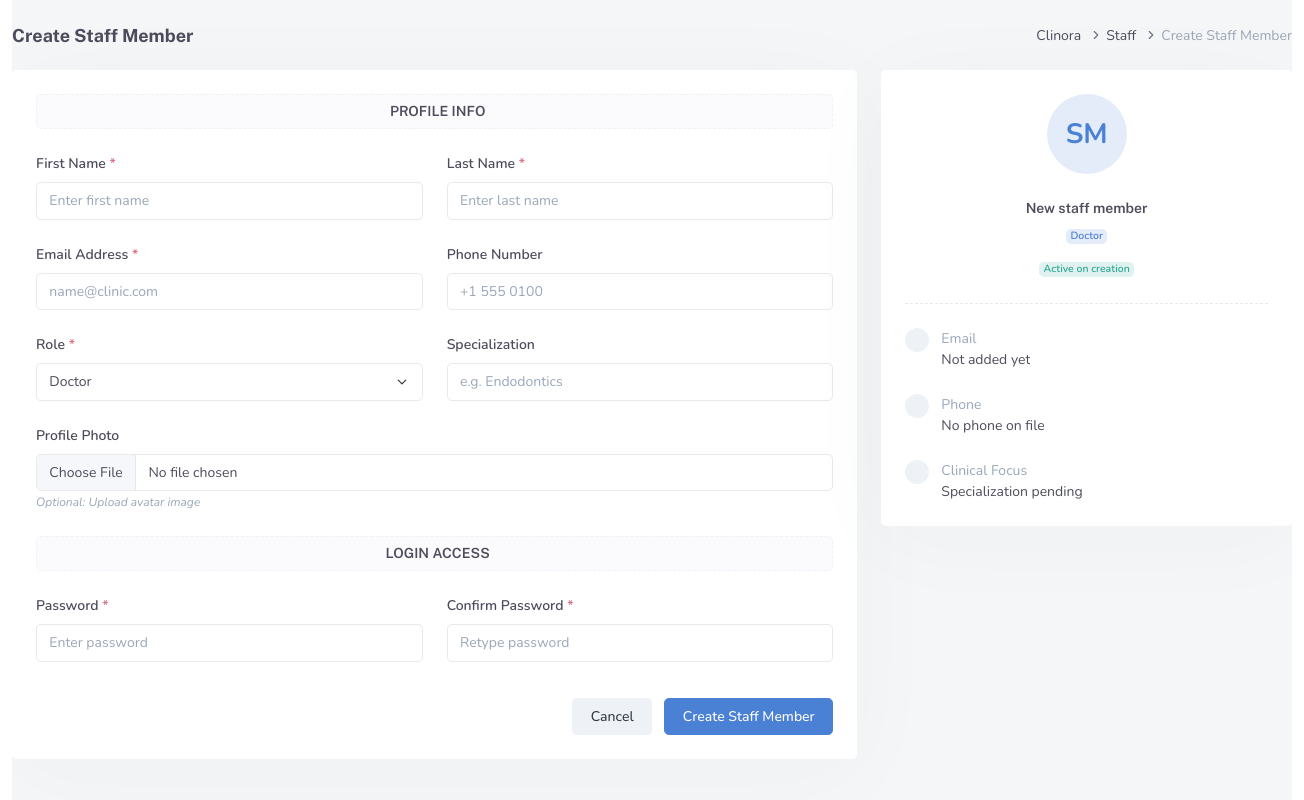
Test: CreateStaffPage › maps duplicate email conflicts to useful field feedback
Type "Salma" into the field labelled "First Name *". click: (229, 201)
box: [36,182,423,220]
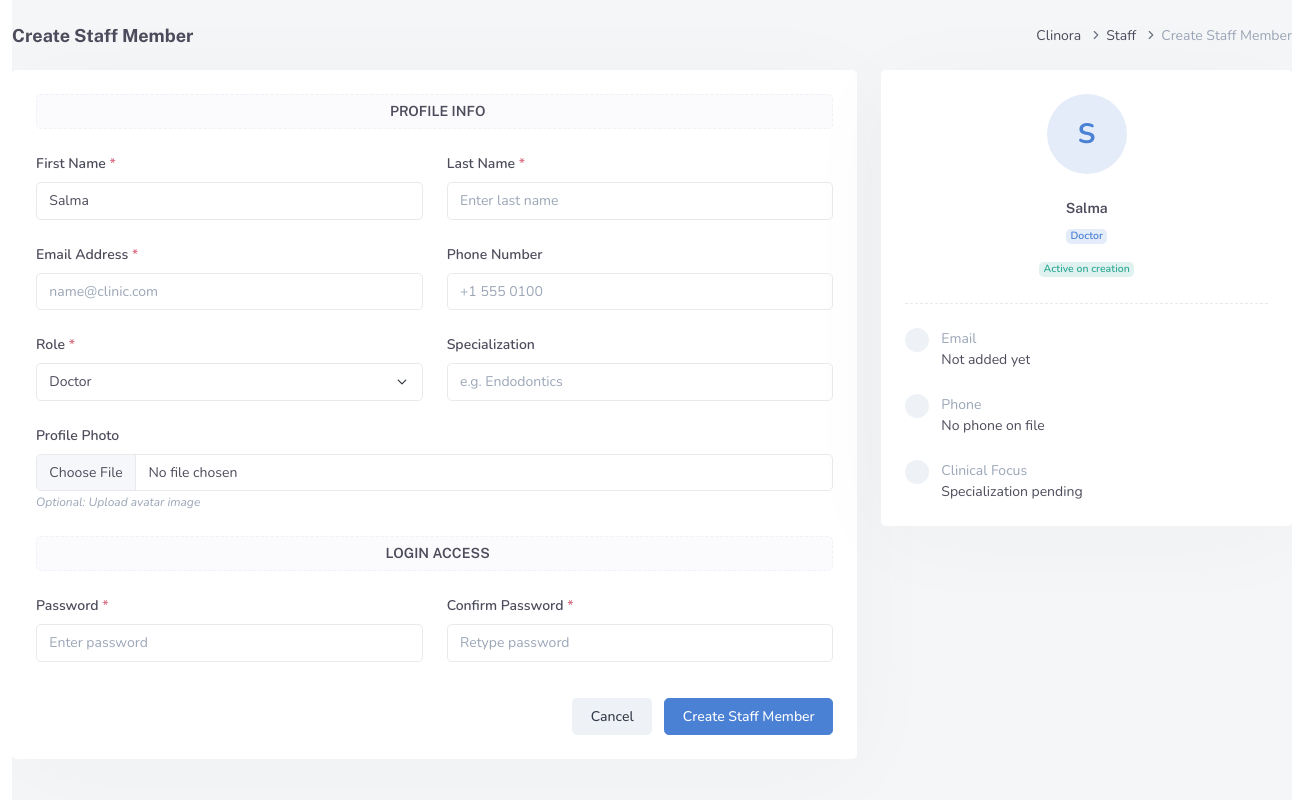
Type "El Mansouri" into the field labelled "Last Name *". click: (640, 201)
box: [447,182,833,220]
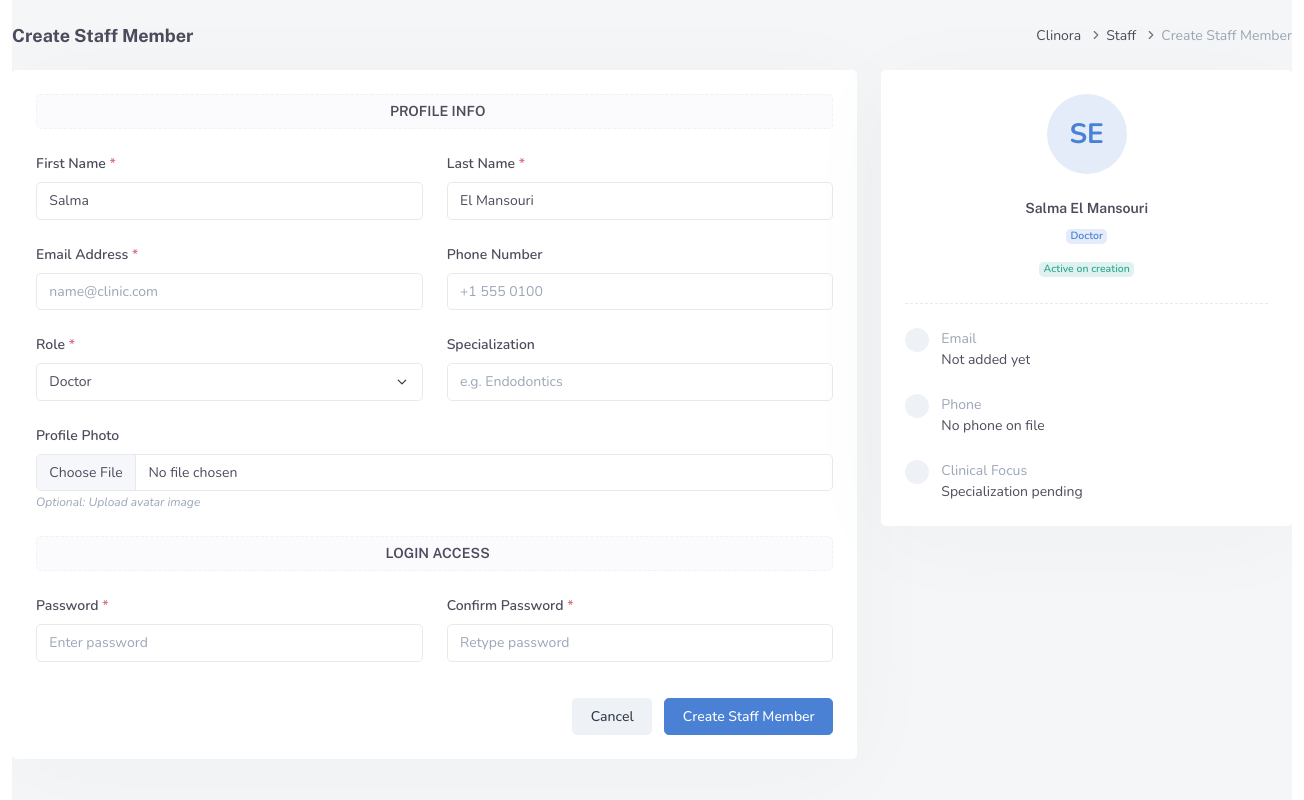
Type "SALMA.ELMANSOURI@CLINORA.TEST" into the field labelled "Email Address *". click: (229, 291)
box: [36,272,423,310]
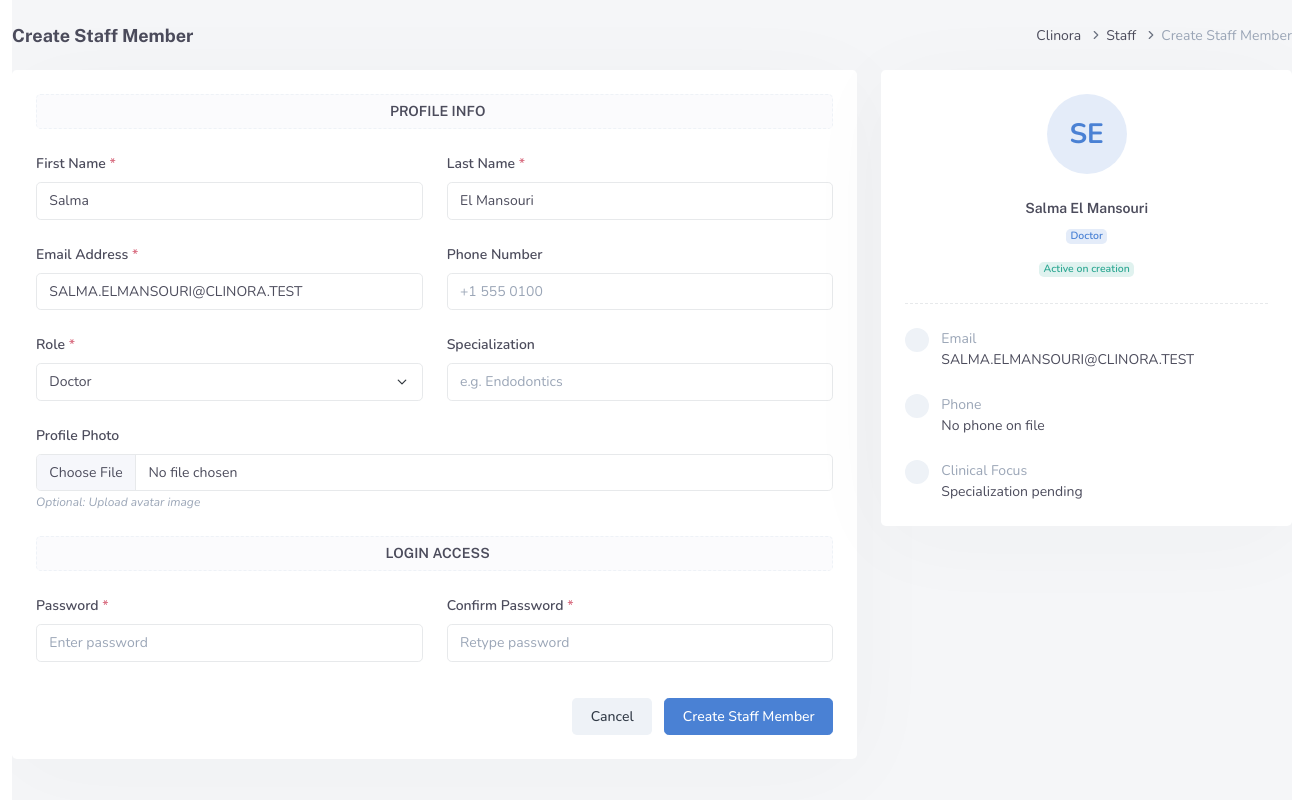
Type "StrongPassword123!" into the password field labelled "Password *". click: (229, 643)
box: [36,624,423,662]
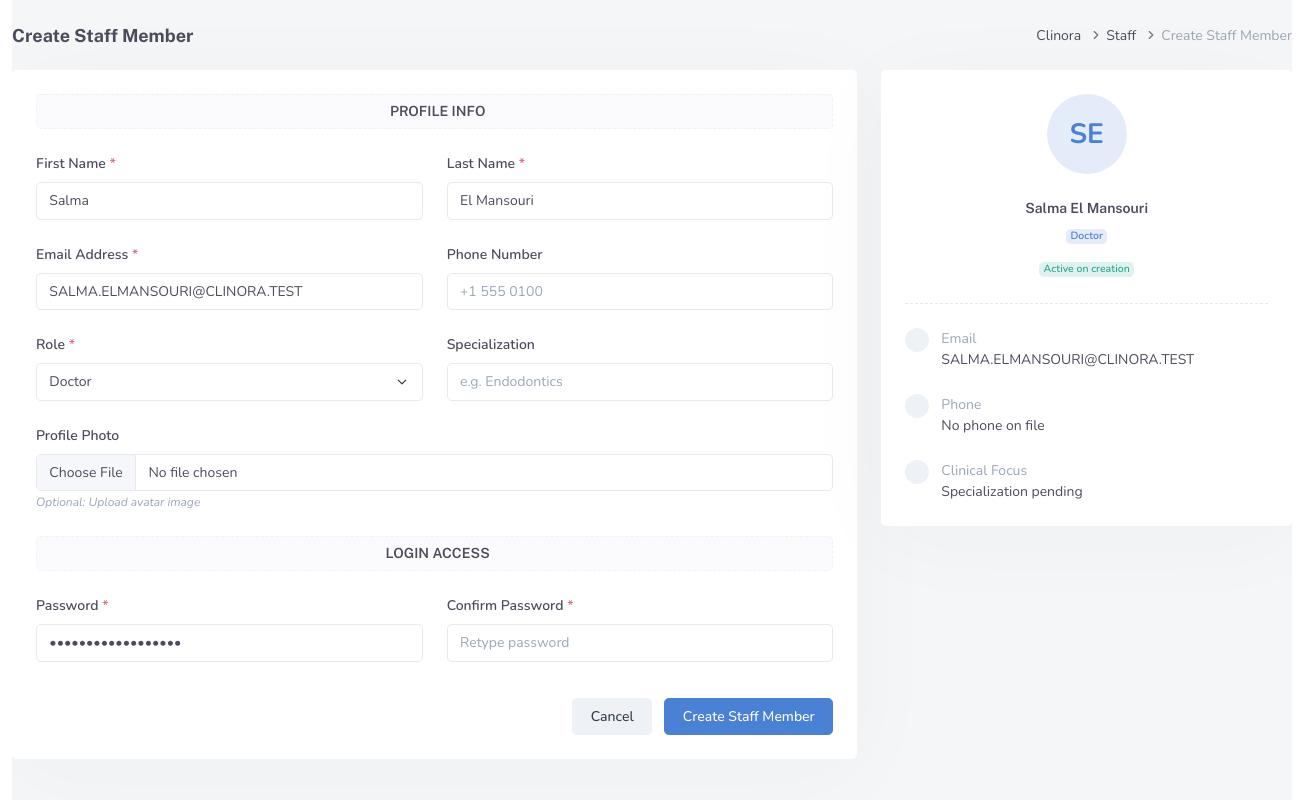
Type "StrongPassword123!" into the password field labelled "Confirm Password *". click: (640, 643)
box: [447,624,833,662]
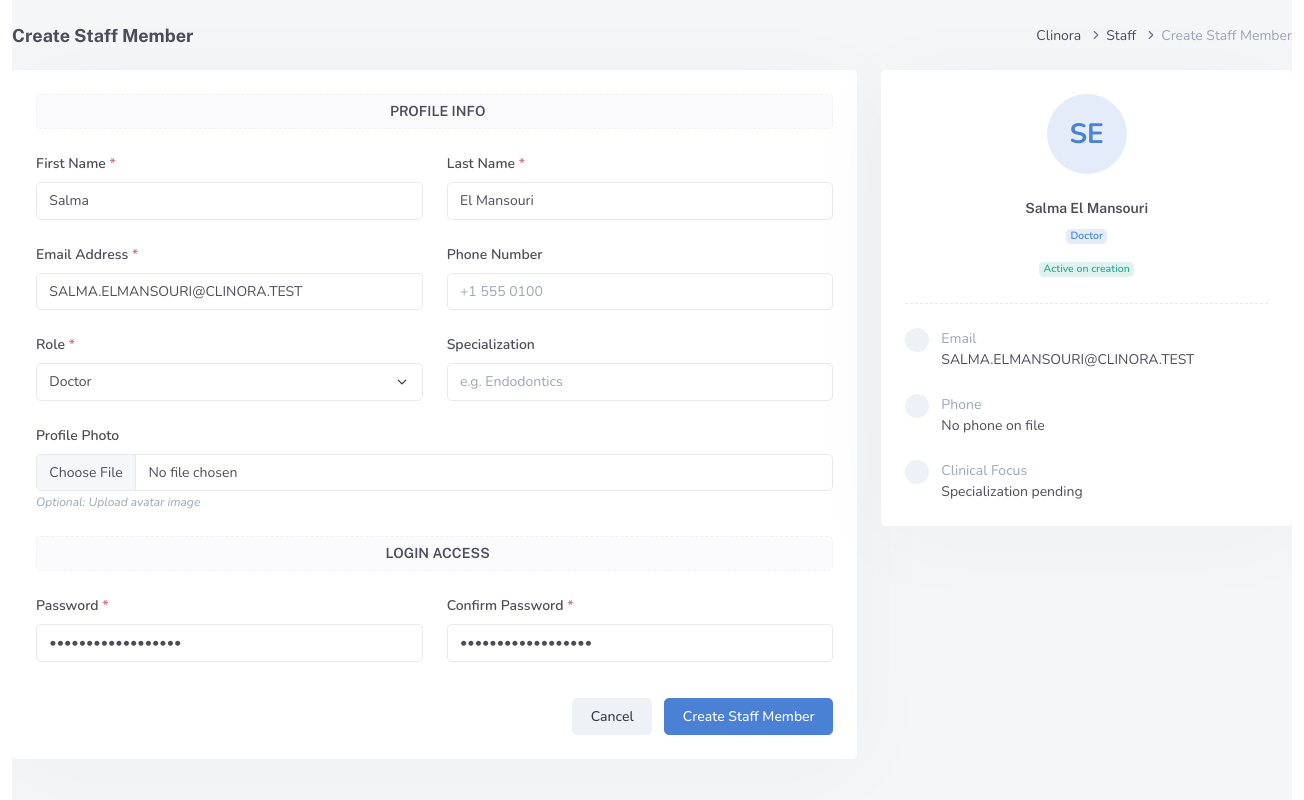
Click the button "Create Staff Member". click: (749, 716)
box: [664,698,833,735]
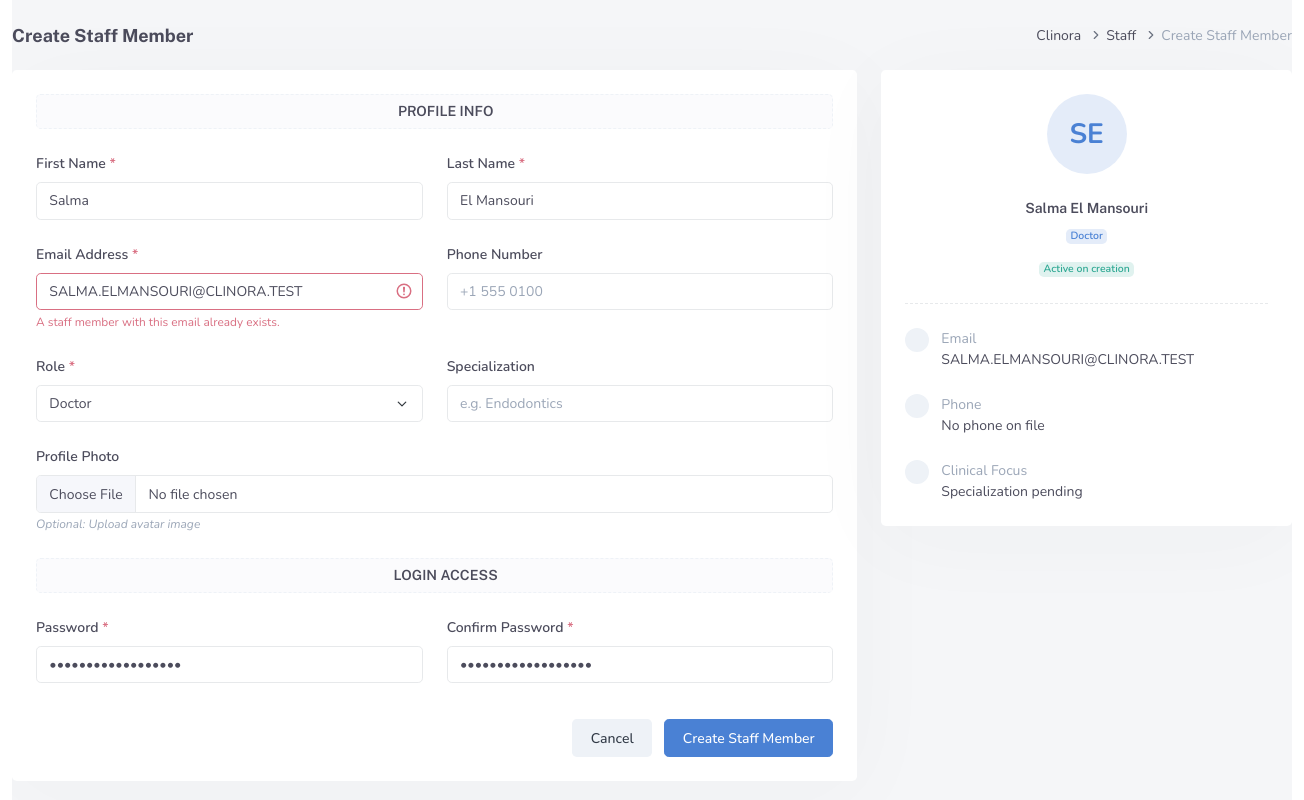
Now the text "A staff member with this email already exists." is shown, box [36,314,280,330]
